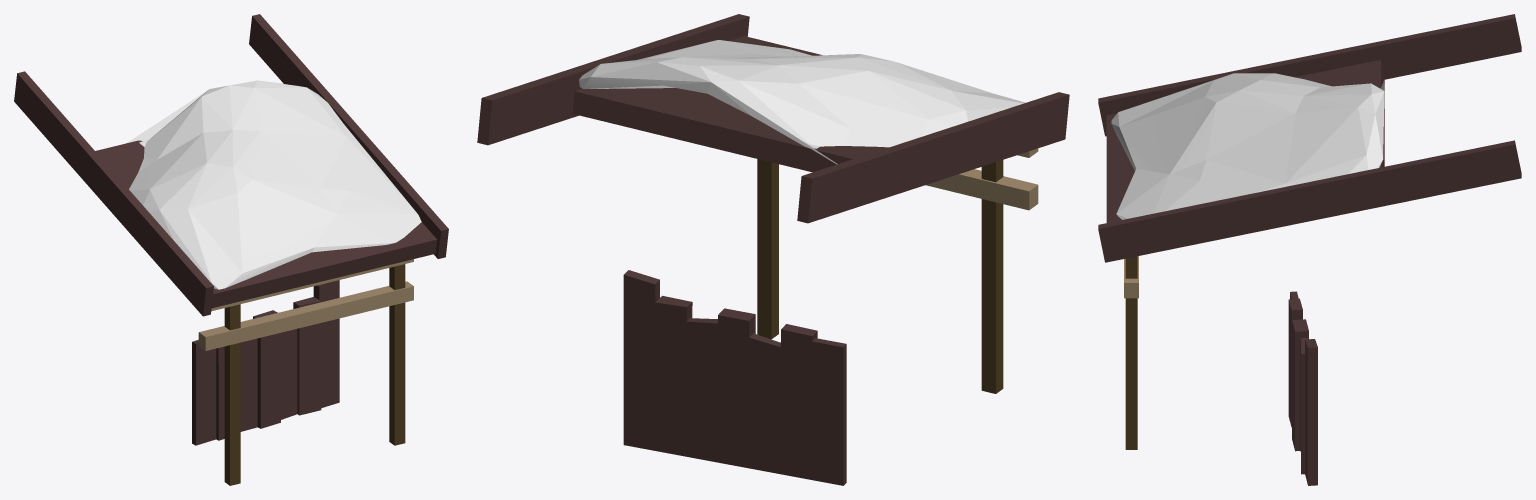
The model's file is DarkRoseWoodBuildingSmallLeanTo1.fbx.
3 views of the same model, side by side, from view 1: azimuth 30°, elevation 25°; view 2: azimuth 150°, elevation 25°; view 3: azimuth 270°, elevation 25° (orthographic). The views are drawn at different scales.
Visible parts, largest first — view 1: Snow, Roof, WoodWall; view 2: Roof, WoodWall, Snow; view 3: Roof, Snow, WoodWall.
Part boxes in pixels (bbox=[...]): Snow: bbox=[126, 80, 421, 289]; Roof: bbox=[14, 14, 448, 485]; WoodWall: bbox=[192, 280, 339, 445]; Roof: bbox=[477, 14, 1069, 393]; WoodWall: bbox=[623, 270, 846, 485]; Snow: bbox=[579, 40, 1025, 164]; Roof: bbox=[1098, 14, 1521, 449]; Snow: bbox=[1111, 73, 1384, 219]; WoodWall: bbox=[1288, 291, 1317, 485].
Size of the model in its own units: 402 by 501 by 552.
